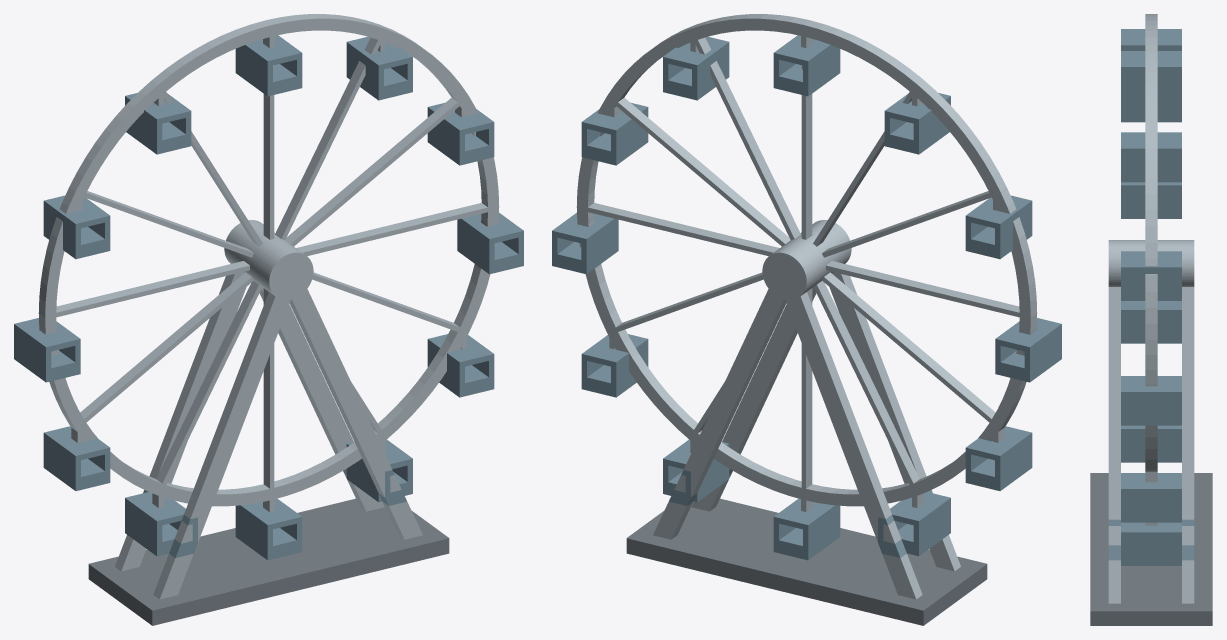
File: NEW_RECOVERY_012_LOD0.glb
3 views of the same model, side by side, from view 1: azimuth 30°, elevation 25°; view 2: azimuth 150°, elevation 25°; view 3: azimuth 270°, elevation 25° (orthographic). The views are drawn at different scales.
Parts seen in each view (by area): view 1: FerrisWheel; view 2: FerrisWheel; view 3: FerrisWheel.
Part boxes in pixels (box(x1,y1,x2,y2)): FerrisWheel: box(14, 14, 523, 625); FerrisWheel: box(552, 14, 1061, 625); FerrisWheel: box(1090, 14, 1212, 625).
Bounding box in the file's own units: 10.78 × 11.72 × 2.5.
